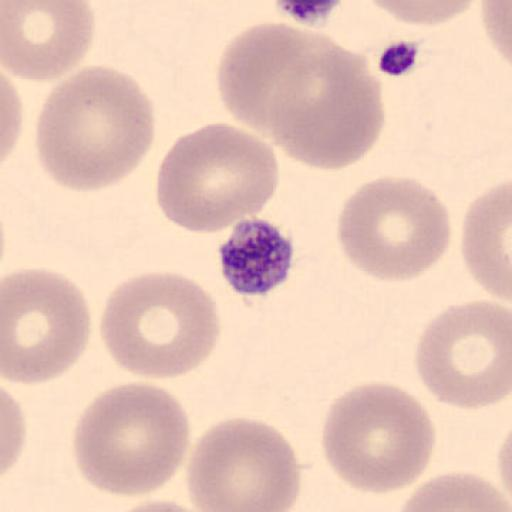Platelet: (216, 214, 297, 298)
RBC: (256, 24, 384, 172), (34, 64, 157, 194), (70, 380, 193, 499), (154, 120, 280, 234), (318, 380, 436, 496), (99, 269, 221, 381), (335, 174, 453, 282), (216, 20, 322, 132), (184, 414, 302, 512), (2, 265, 93, 387), (413, 298, 511, 410), (2, 0, 96, 83), (459, 179, 512, 302), (394, 469, 512, 512), (358, 0, 484, 27), (1, 384, 26, 478), (0, 69, 23, 169), (479, 1, 512, 68), (105, 498, 216, 512), (496, 429, 512, 512)
